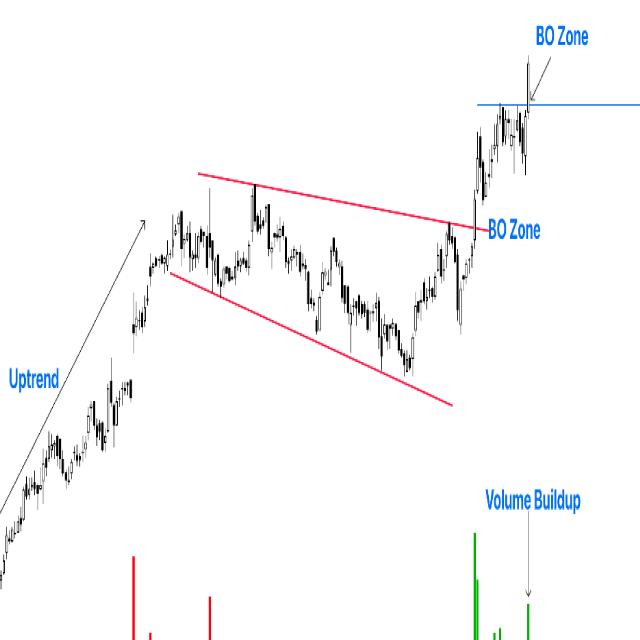Channel-down: (147, 177, 486, 405)
